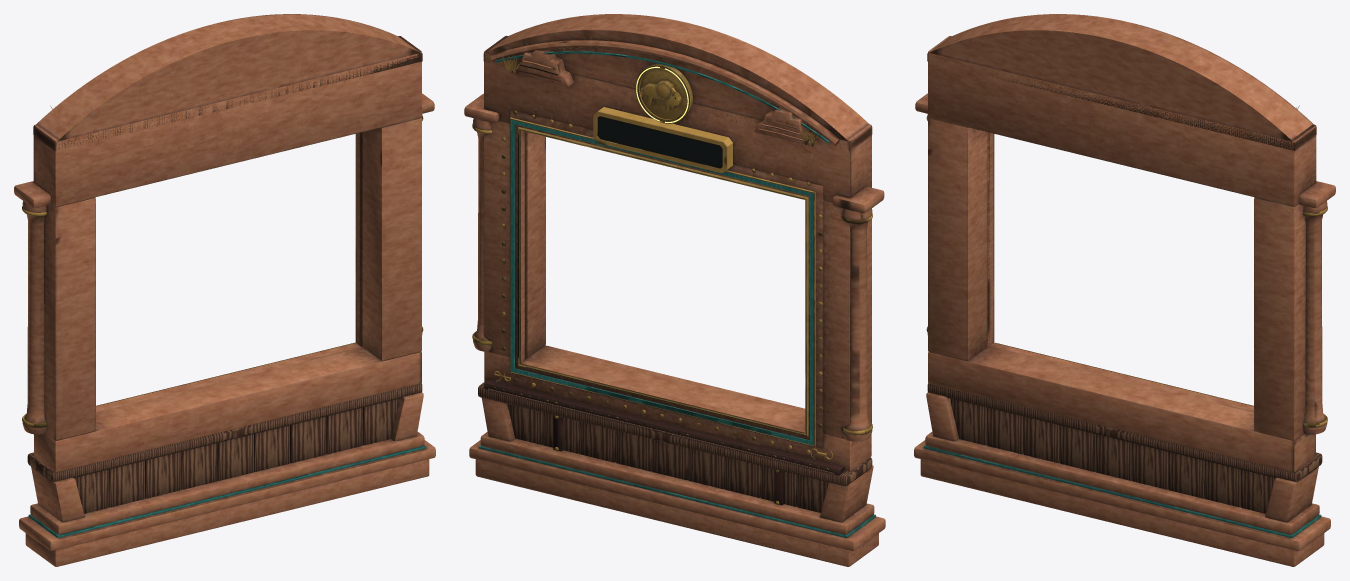
3 views of the same model, side by side, from view 1: azimuth 30°, elevation 25°; view 2: azimuth 150°, elevation 25°; view 3: azimuth 330°, elevation 25° (orthographic).
Visible parts, largest first — view 1: Red_sandstone, Prairie_timber, Turquoise_inlay, Hammered_ancient_gold; view 2: Red_sandstone, Prairie_timber, Hammered_ancient_gold, Turquoise_inlay, Saddle_leather, Display_dark_face; view 3: Red_sandstone, Prairie_timber, Turquoise_inlay, Hammered_ancient_gold.
Part boxes in pixels (x1,y1,x2,y2): Red_sandstone: (14,14,435,566); Prairie_timber: (27,383,422,513); Turquoise_inlay: (28,445,426,537); Hammered_ancient_gold: (22,105,423,427); Red_sandstone: (464,14,885,566); Prairie_timber: (478,382,872,512); Hammered_ancient_gold: (472,54,872,504); Turquoise_inlay: (478,51,875,537); Saddle_leather: (484,379,845,505); Display_dark_face: (597,97,722,168); Red_sandstone: (914,14,1335,566); Prairie_timber: (927,383,1322,513); Turquoise_inlay: (923,445,1321,537); Hammered_ancient_gold: (926,105,1327,427).
Bounding box in the file's own units: 9.64 × 11 × 1.44.
Materials: 7 (6 with a texture image).
